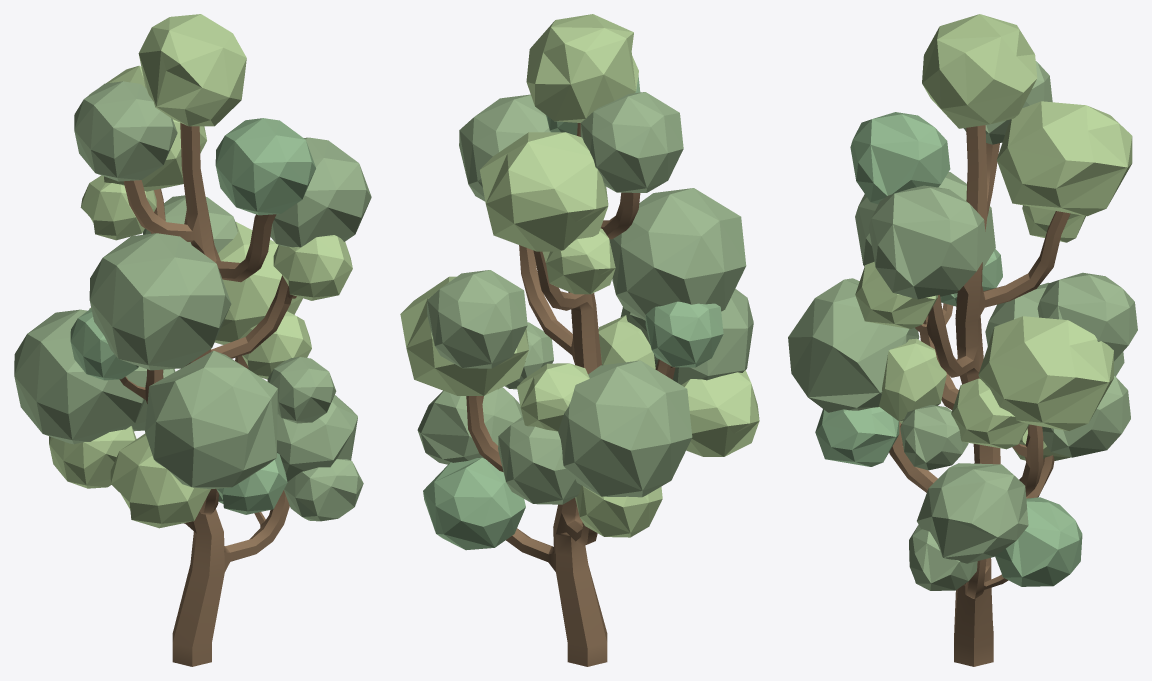
Rendered from tree4.fbx.
3 views of the same model, side by side, from view 1: azimuth 30°, elevation 25°; view 2: azimuth 150°, elevation 25°; view 3: azimuth 270°, elevation 25° (orthographic).
Parts seen in each view (by area): view 1: pCylinder75, Leaves14, Leaves6, Leaves7, pCube20, Leaves19, Leaves18, Leaves12, pCube18, Leaves9, pCube11, pCube17 (+9 smaller); view 2: Leaves7, pCylinder75, Leaves14, pCube14, pCube20, Leaves17, Leaves19, Leaves10, pCube18, pCube11, Leaves8, Leaves9 (+8 smaller); view 3: pCylinder75, pCube14, pCube11, Leaves12, Leaves6, pCube20, Leaves9, Leaves18, Leaves10, Leaves17, pCube16, pCube13 (+10 smaller).
Boxes of the visible parts, box(x1,y1,x2,y2) form: pCylinder75: box(119, 123, 296, 666); Leaves14: box(89, 233, 231, 370); Leaves6: box(145, 350, 277, 489); Leaves7: box(14, 309, 146, 444); pCube20: box(138, 14, 246, 126); Leaves19: box(74, 81, 177, 181); Leaves18: box(215, 118, 315, 215); Leaves12: box(270, 137, 371, 247); pCube18: box(110, 433, 210, 528); Leaves9: box(277, 395, 357, 481); pCube11: box(214, 222, 302, 344); pCube17: box(273, 235, 352, 300); Leaves7: box(558, 360, 692, 497); pCylinder75: box(466, 123, 675, 666); Leaves14: box(609, 188, 746, 320); pCube14: box(480, 132, 608, 251); pCube20: box(526, 14, 638, 122); Leaves17: box(427, 270, 527, 368); Leaves19: box(580, 92, 683, 192); Leaves10: box(423, 457, 525, 550); pCube18: box(681, 370, 759, 456); pCube11: box(400, 276, 528, 395); Leaves8: box(498, 417, 581, 504); Leaves9: box(417, 387, 522, 464); pCylinder75: box(889, 125, 1070, 666); pCube14: box(996, 101, 1132, 216); pCube11: box(978, 316, 1113, 430); Leaves12: box(868, 185, 987, 299); Leaves6: box(788, 278, 919, 412); pCube20: box(922, 14, 1037, 128); Leaves9: box(917, 463, 1028, 563); Leaves18: box(850, 112, 950, 204); Leaves10: box(995, 497, 1082, 586); Leaves17: box(1037, 272, 1137, 361); pCube16: box(815, 407, 899, 466); pCube13: box(879, 338, 946, 421).
Size of the model in its own units: 9.5 by 19.82 by 9.92.
